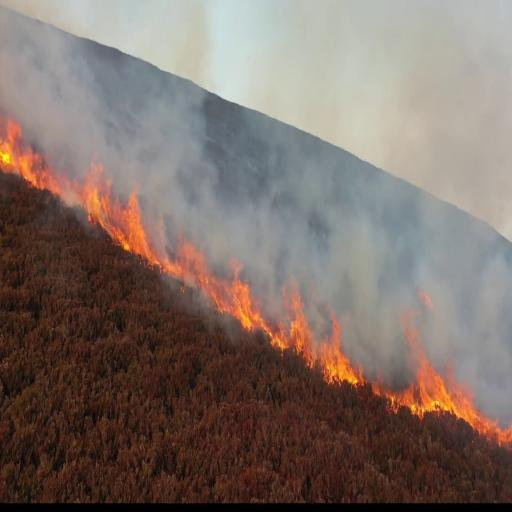fire: (84, 152, 158, 270), (400, 287, 466, 417), (0, 118, 46, 192)
smoke: (0, 0, 112, 116), (324, 192, 400, 313), (458, 226, 512, 368)
